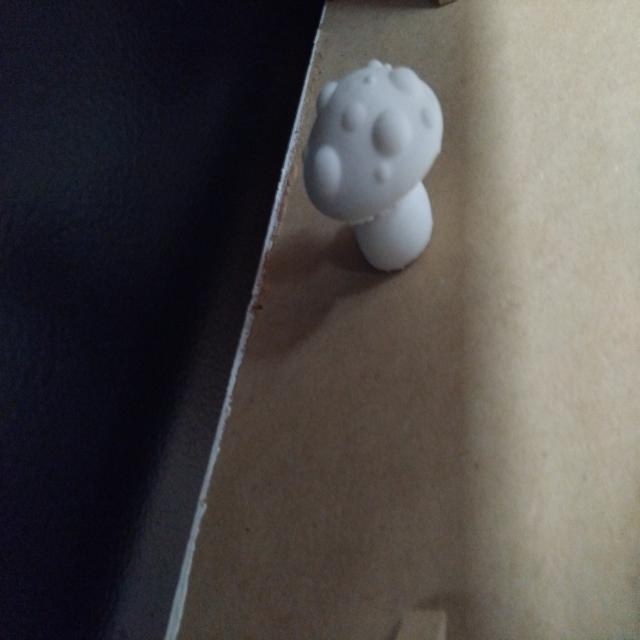Hongo: (304, 44, 454, 295)
